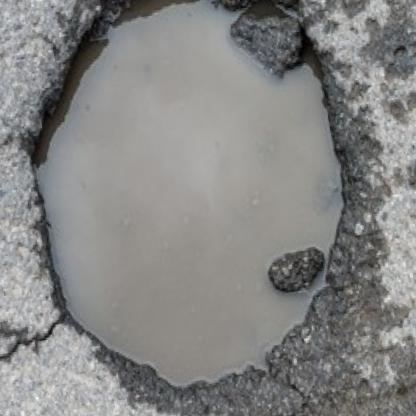pothole: (0, 0, 382, 410)
